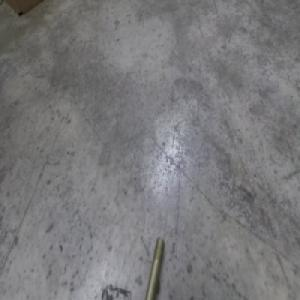Bolt: (145, 239, 164, 300)
